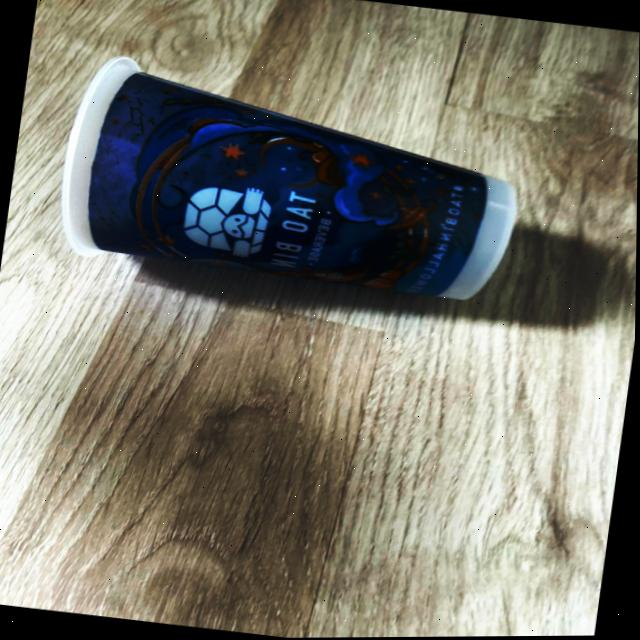Plastic Cup: (63, 58, 516, 299)
